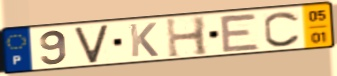9: (39, 30, 68, 66)
C: (262, 10, 303, 48)
E: (217, 12, 262, 54)
H: (164, 15, 211, 60)
K: (128, 21, 161, 59)
V: (73, 22, 111, 65)
